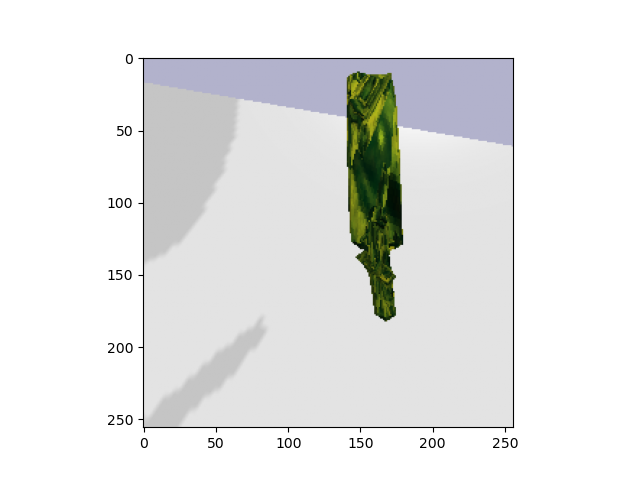v249b387_108: (327, 67, 429, 335)
